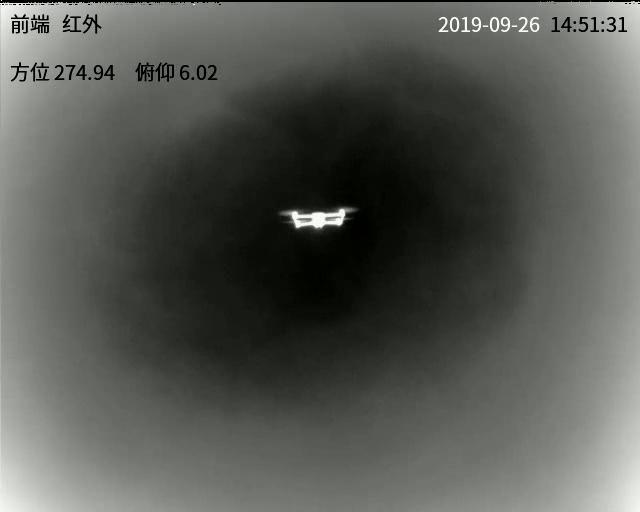DRONE: (283, 207, 353, 229)
